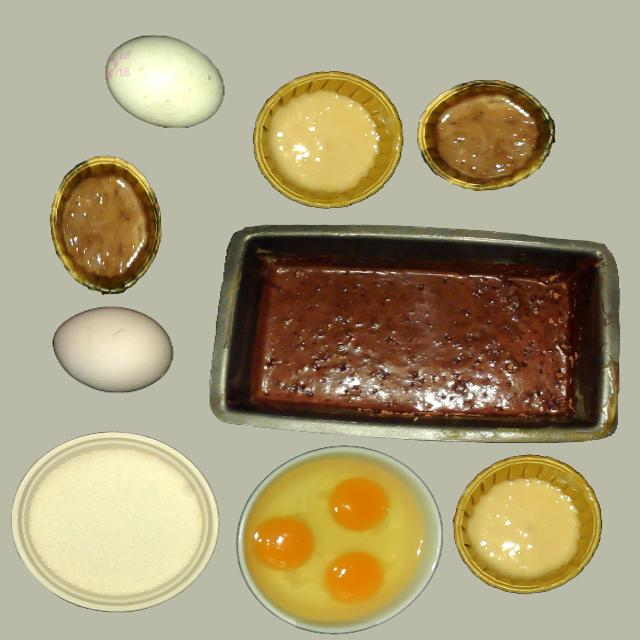Egg: (251, 517, 314, 569), (330, 478, 390, 531), (325, 551, 384, 602)
Sugar: (27, 445, 201, 601)
